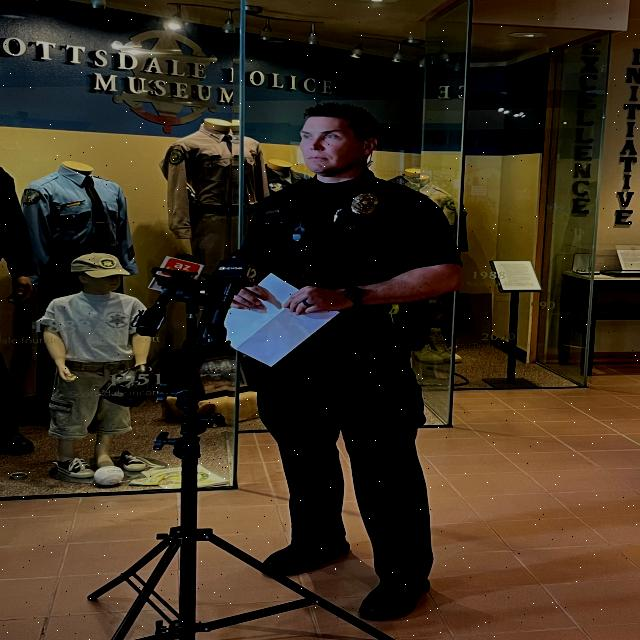police: (210, 88, 495, 632)
